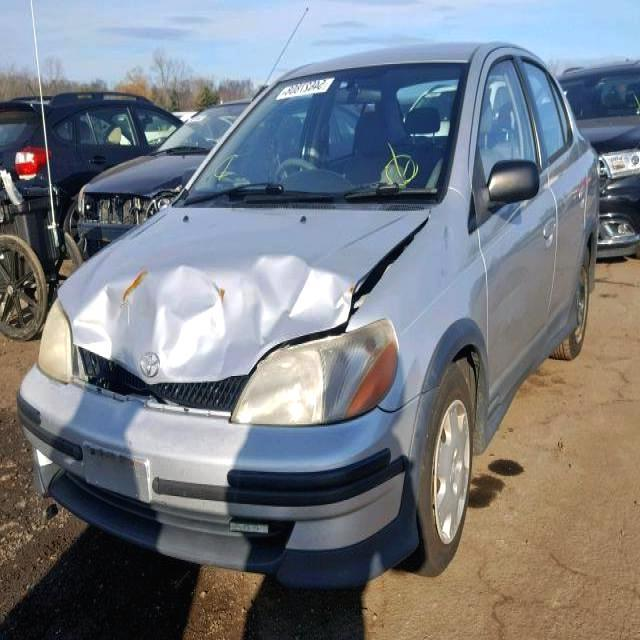minor: (57, 204, 428, 418)
